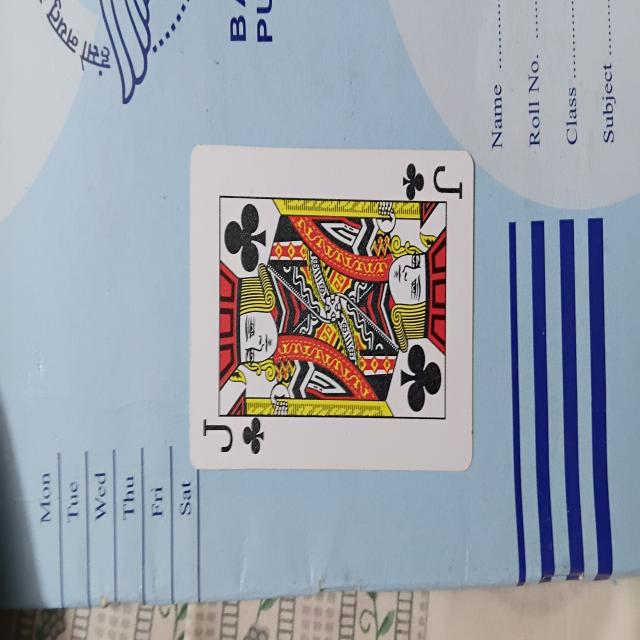JC: (187, 152, 473, 476)
